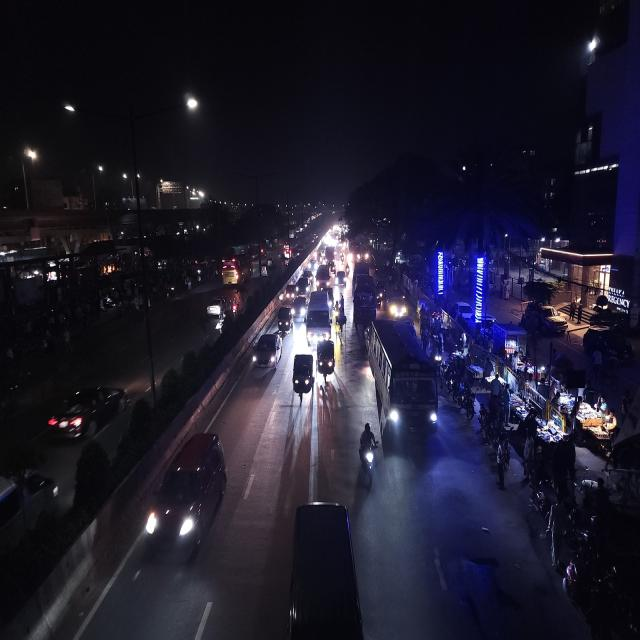bus: (364, 315, 440, 452), (304, 287, 332, 348), (352, 274, 376, 334), (221, 251, 251, 288)
car: (142, 428, 228, 566), (286, 500, 364, 640), (0, 462, 60, 609), (47, 379, 129, 443), (251, 326, 285, 377), (453, 299, 477, 324), (204, 292, 226, 318), (315, 264, 331, 289), (298, 273, 312, 296), (334, 268, 348, 288), (302, 263, 314, 278)
cng: (291, 348, 315, 403), (316, 337, 338, 393), (276, 304, 292, 333), (284, 282, 298, 303)
motorcycle: (356, 418, 377, 487)
rickshaw: (336, 312, 348, 336)
